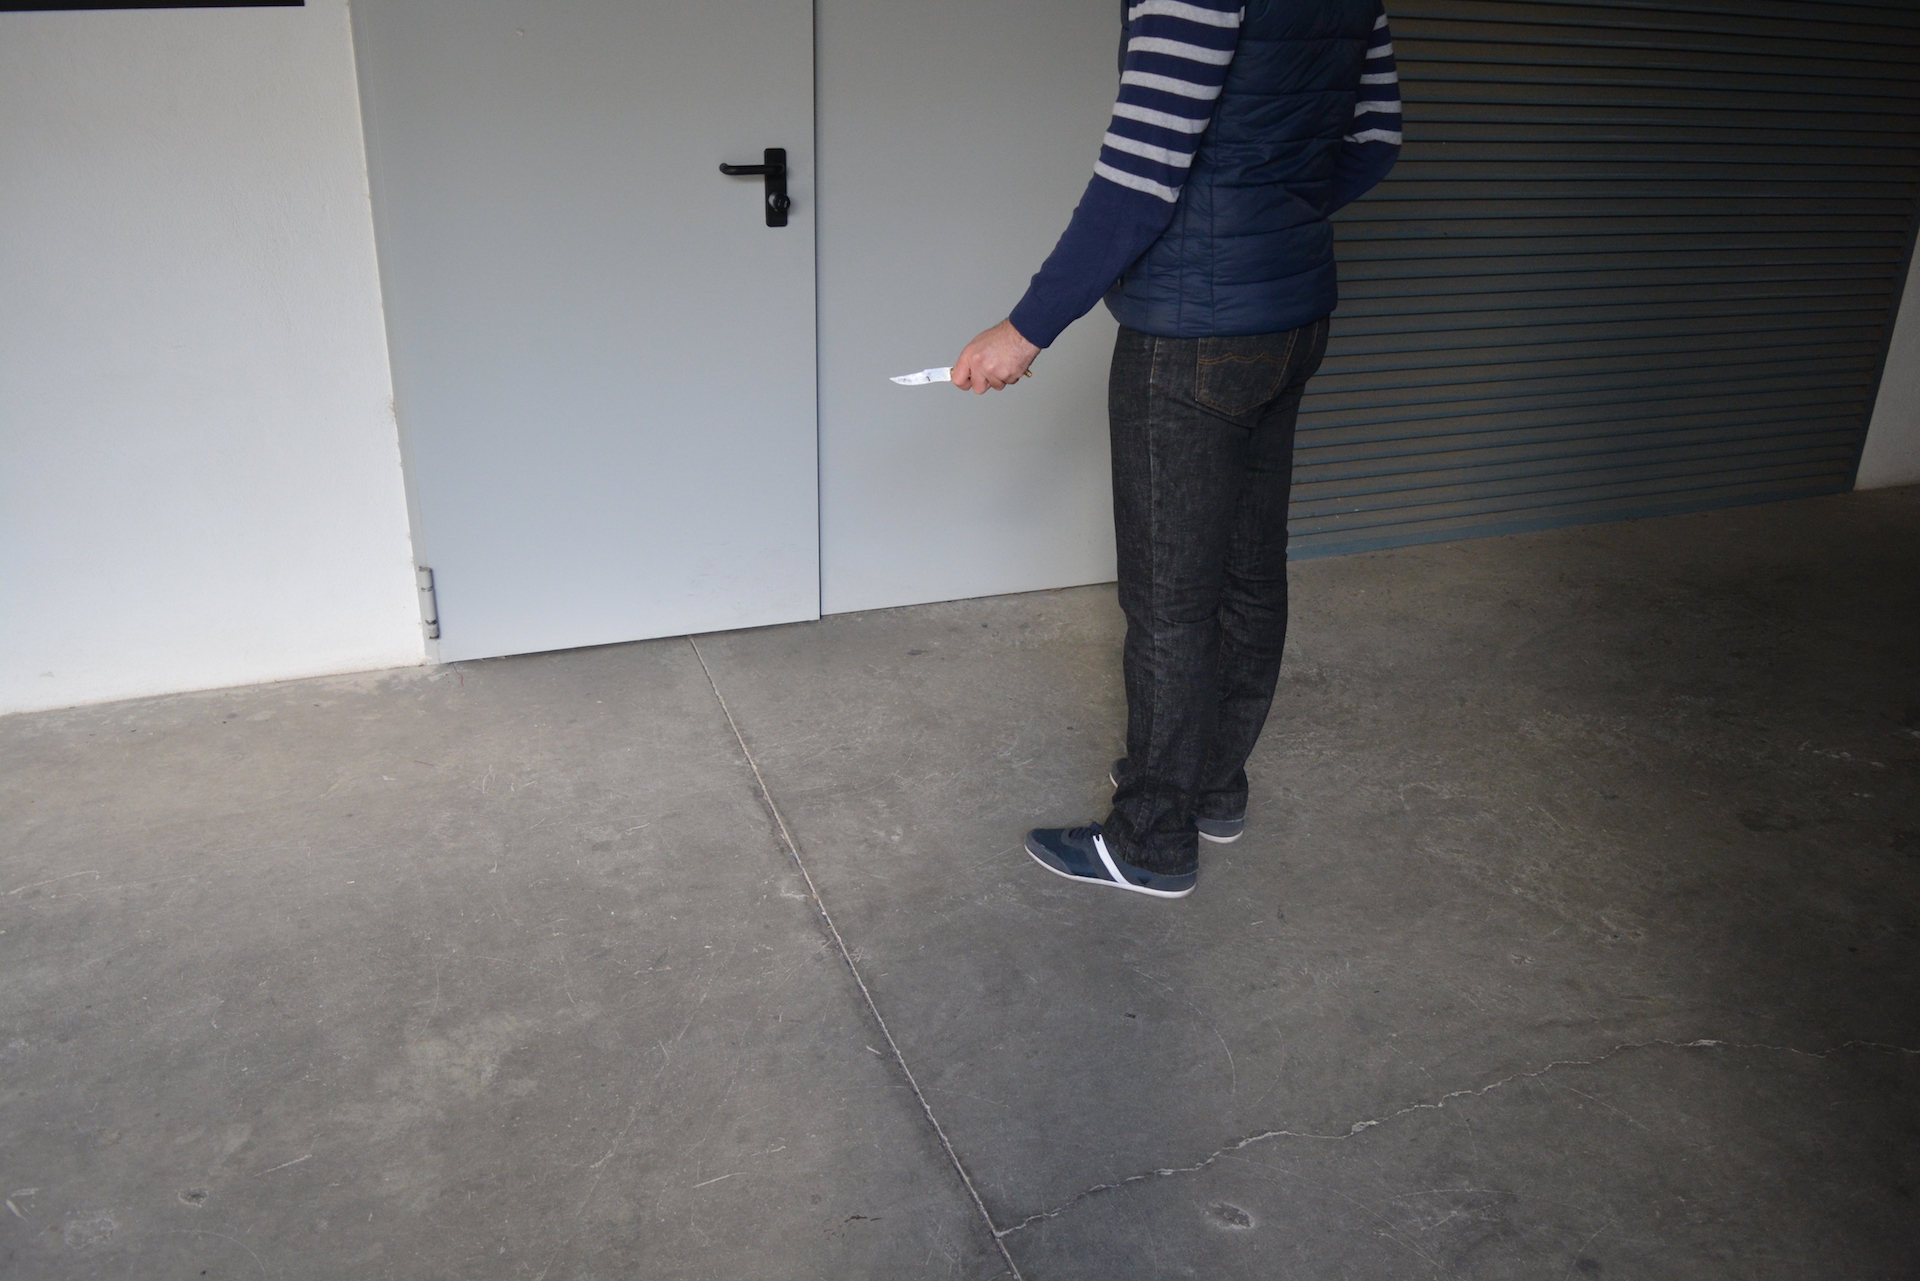knife: (885, 362, 1039, 390)
